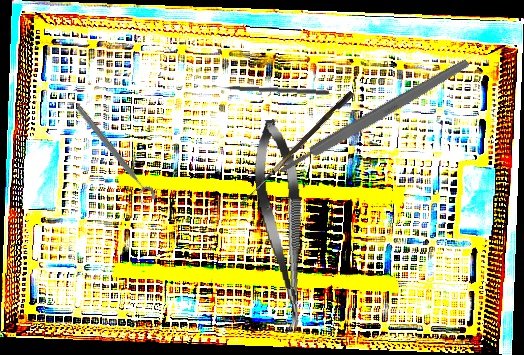Fixation Ring: (68, 102, 159, 209)
Hook Surgical: (239, 88, 355, 211)
Micro Scissor: (248, 117, 317, 336)
Pusher: (207, 82, 330, 96)
Scalpel Handle: (277, 56, 471, 177)
